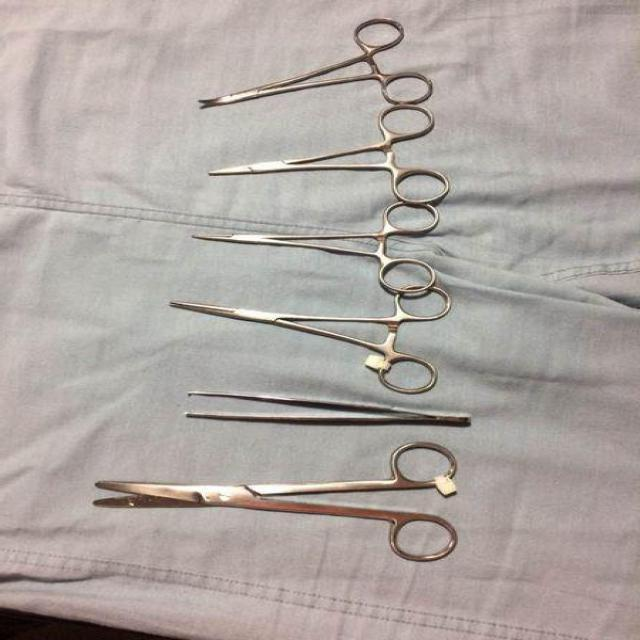Forceps: (178, 384, 477, 432)
Hemostat: (165, 285, 454, 399), (203, 102, 454, 208), (189, 198, 442, 298), (196, 14, 436, 112)
Mayo_metz: (88, 436, 462, 566)
